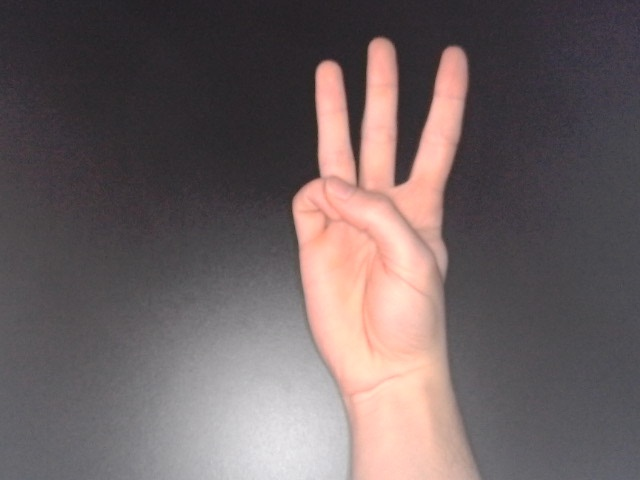w: (284, 31, 475, 423)
